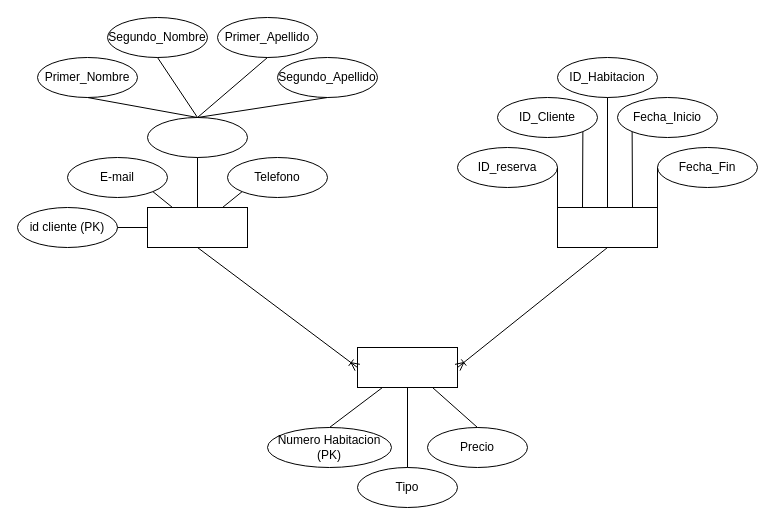
This 775x525 diagram has some shape labels left out. The centre of each missing label's shape, as x and y in pixels:
"Cliente" goes at (197,227).
"Habitacion" goes at (407,367).
"Nombre" goes at (197,137).
"Reserva" goes at (607,227).
